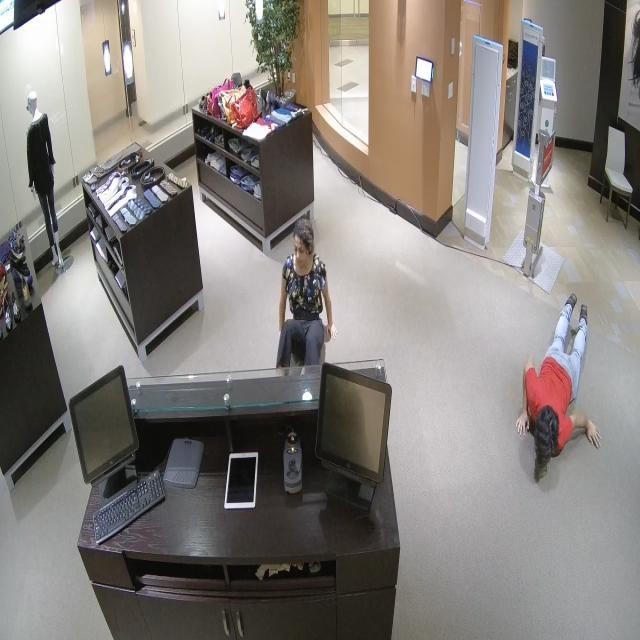fall: (518, 282, 602, 508), (261, 212, 357, 382)
